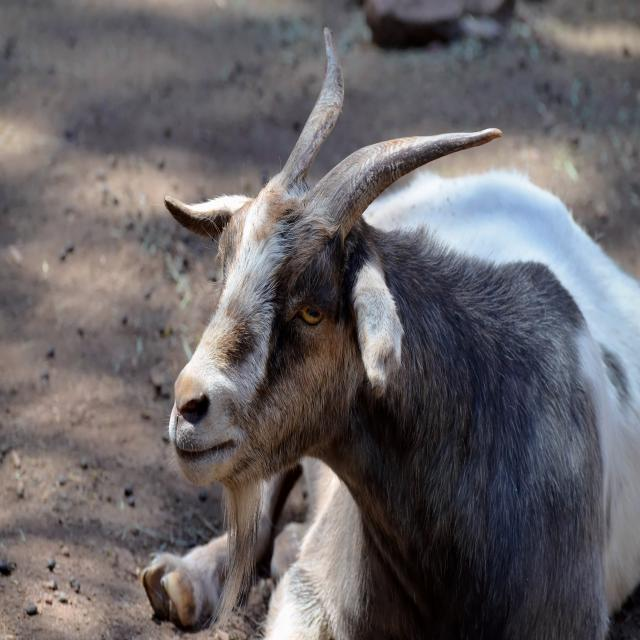Goat: (142, 27, 640, 640)
